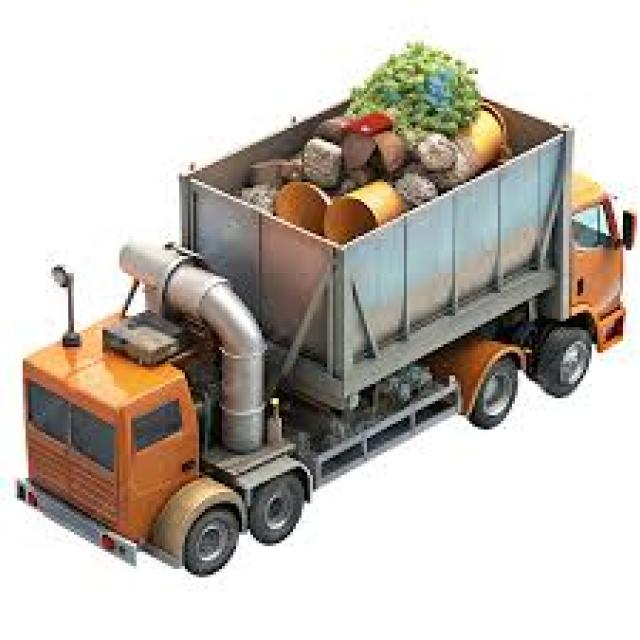truck: (27, 49, 630, 582)
